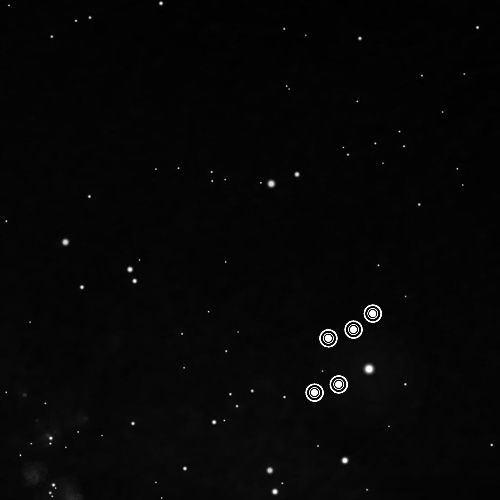lyra: (294, 293, 386, 413)
